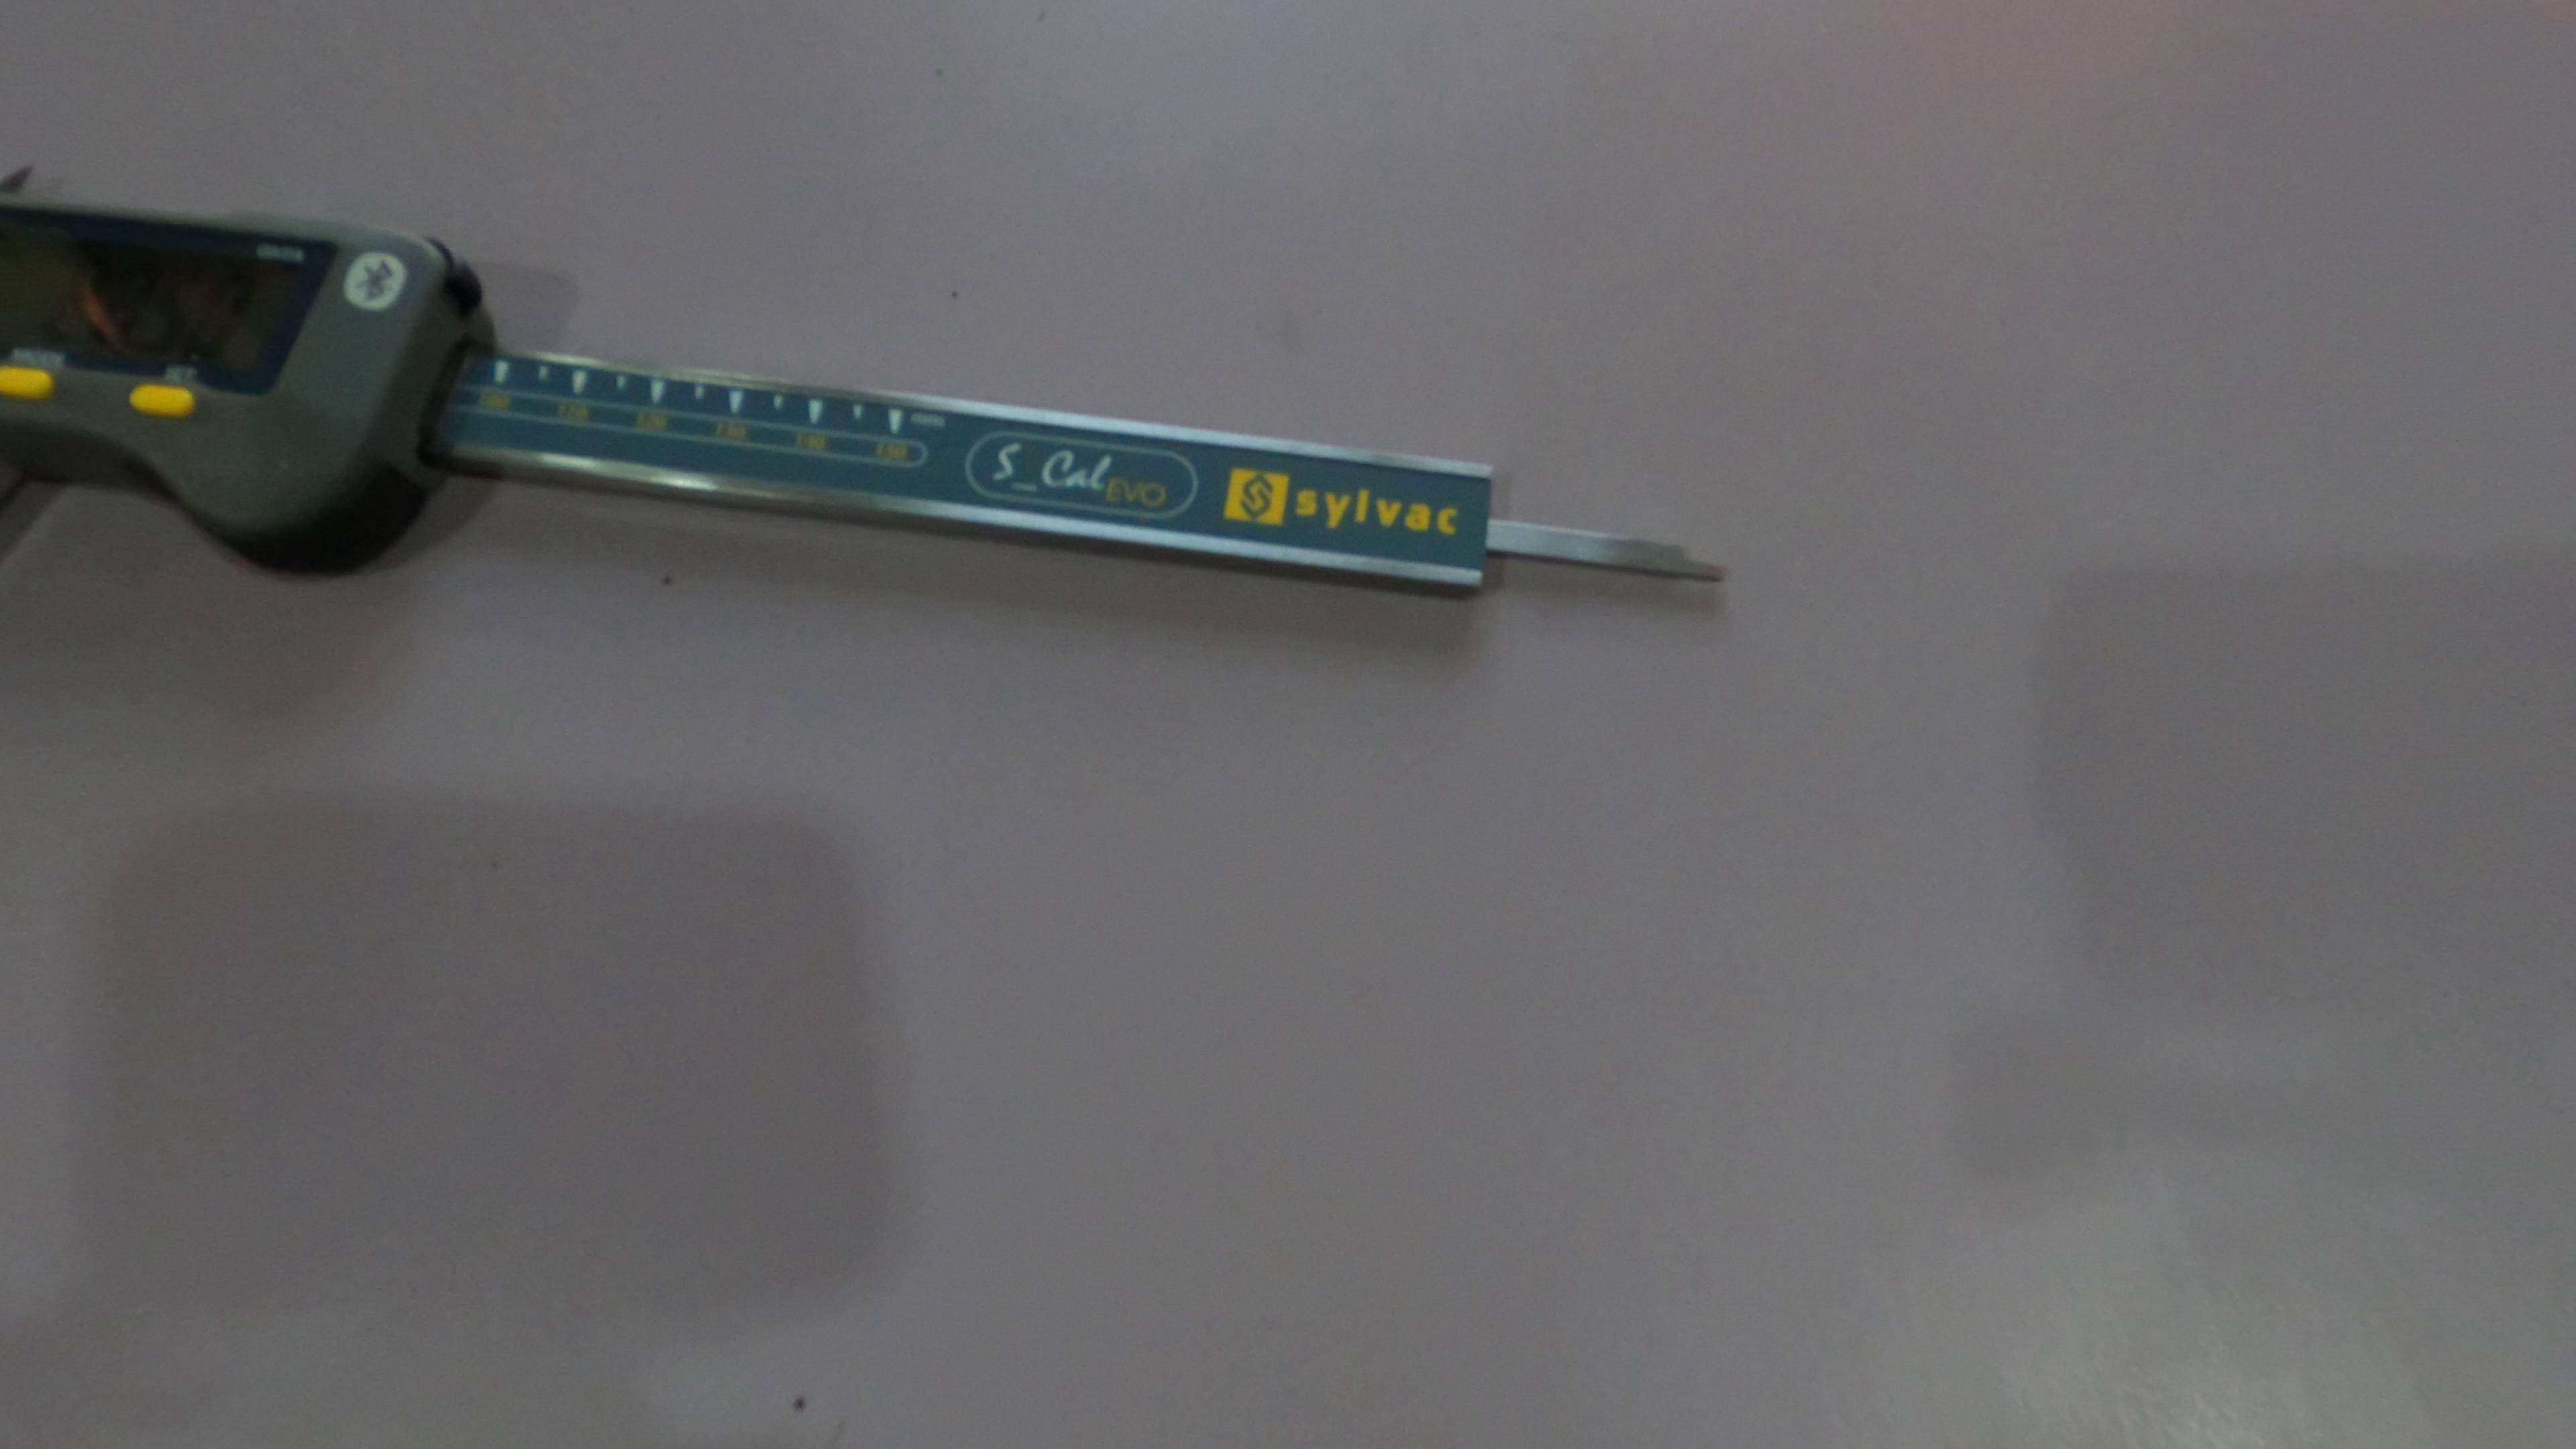vernier_caliper: (7, 145, 1748, 626)
